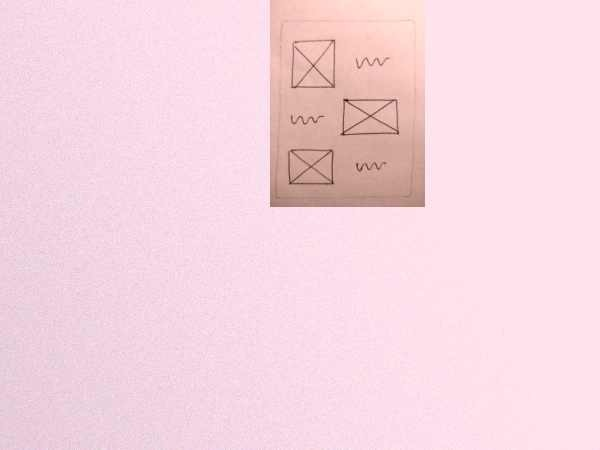image: (339, 96, 403, 139), (289, 38, 338, 91), (285, 146, 337, 187)
text: (352, 50, 394, 74), (287, 109, 327, 128), (350, 158, 392, 175)
